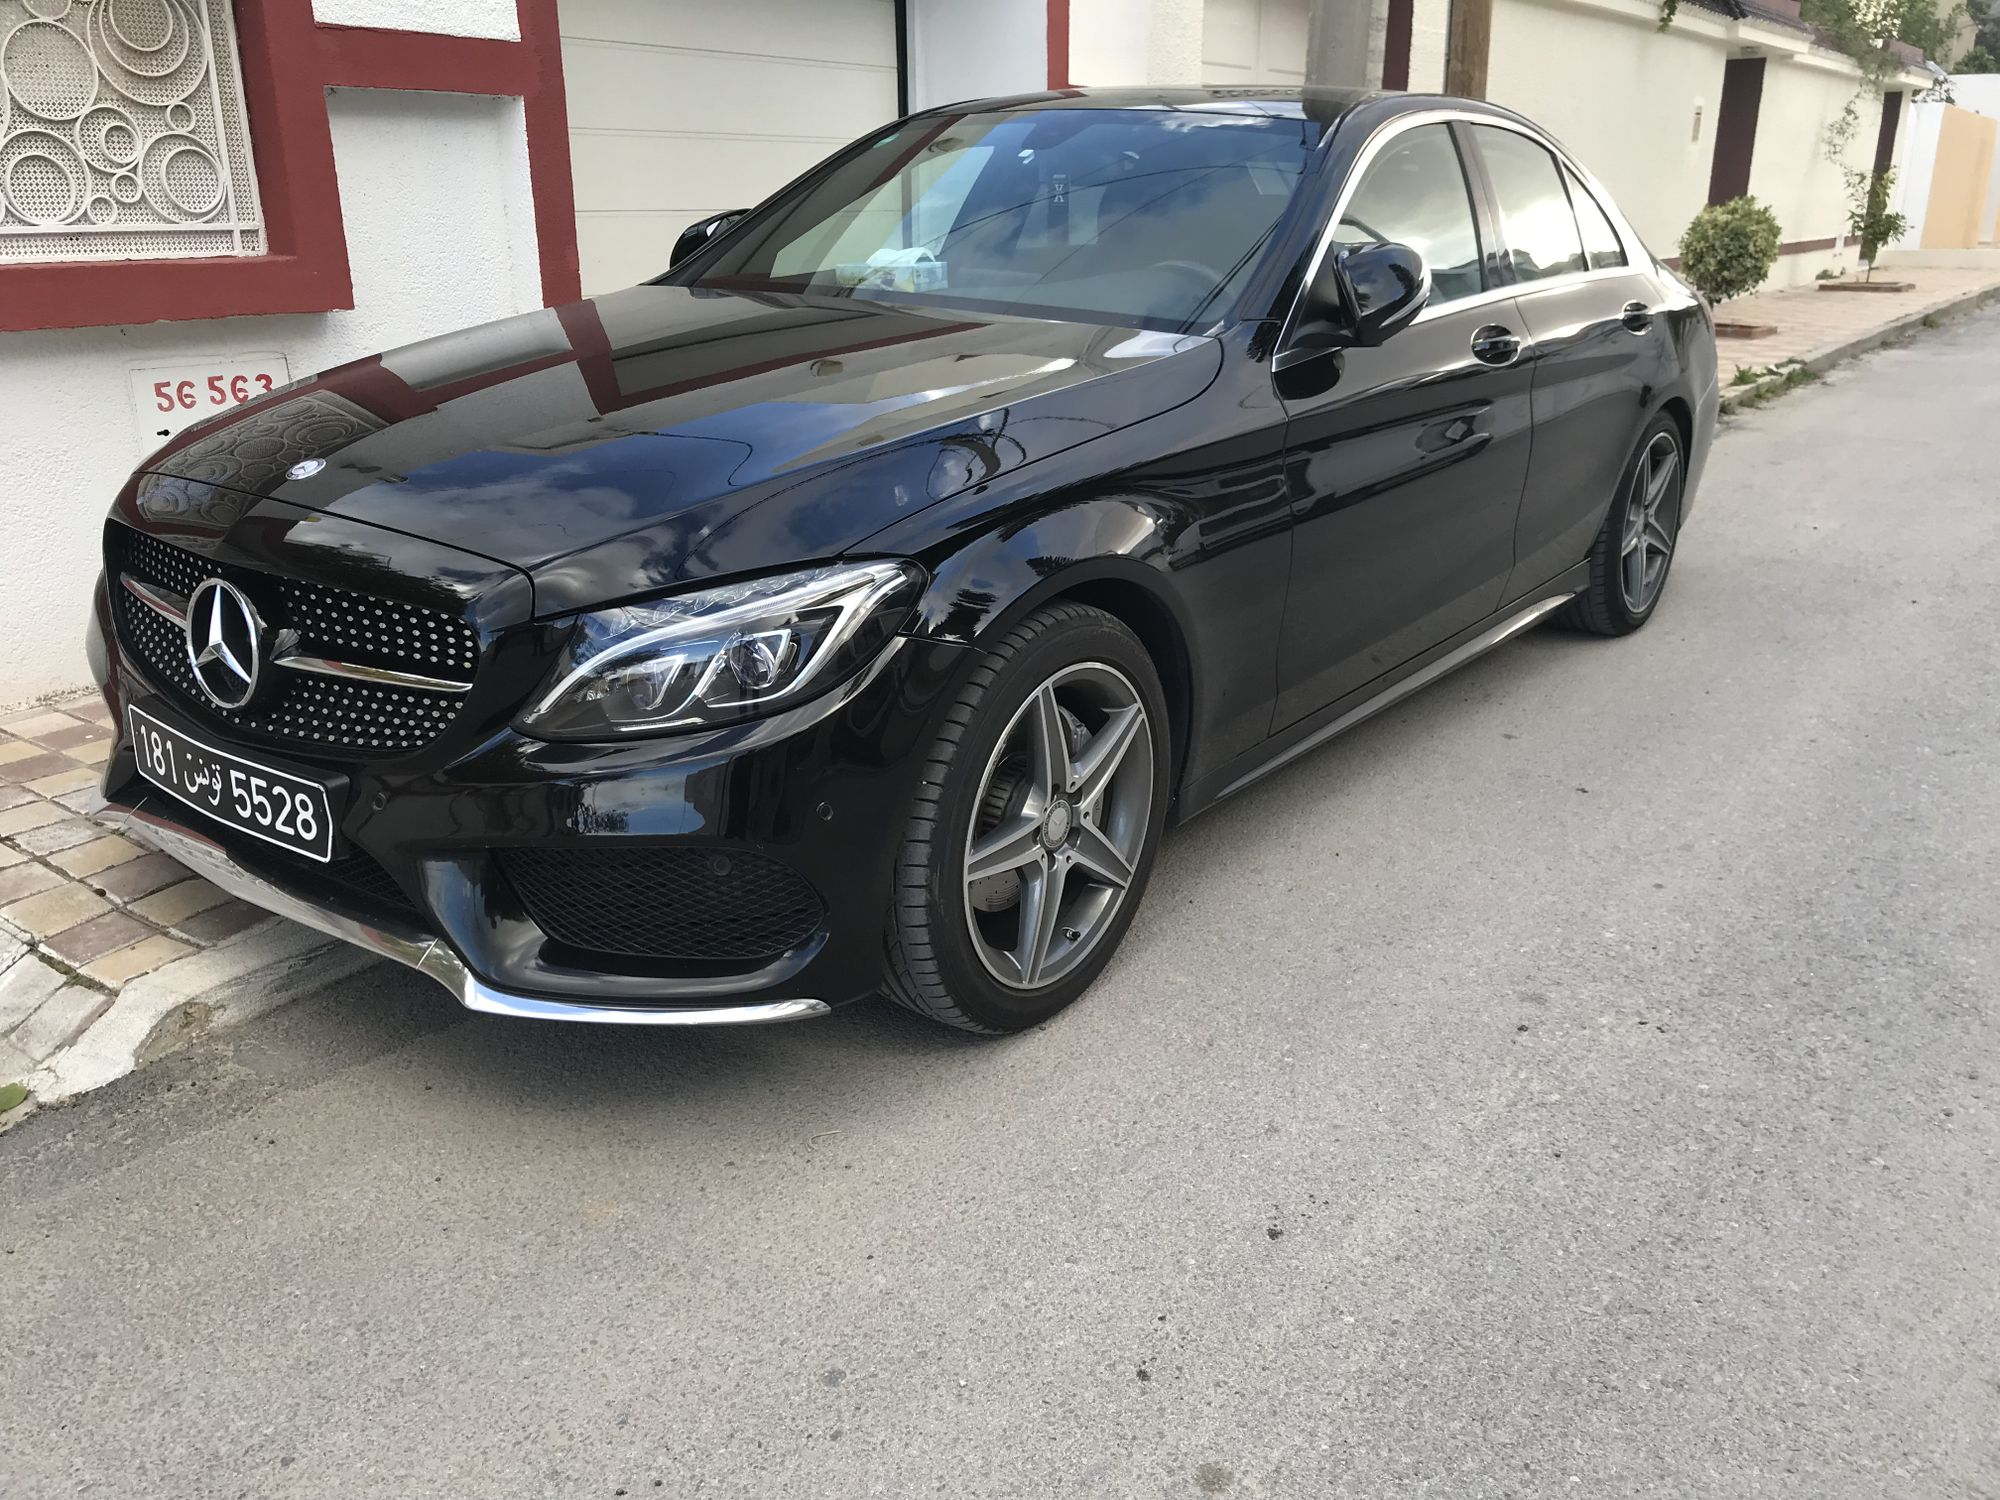LP: (126, 703, 334, 857)
